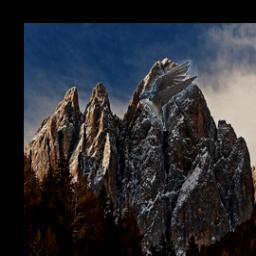Swallow: (139, 60, 198, 131)
